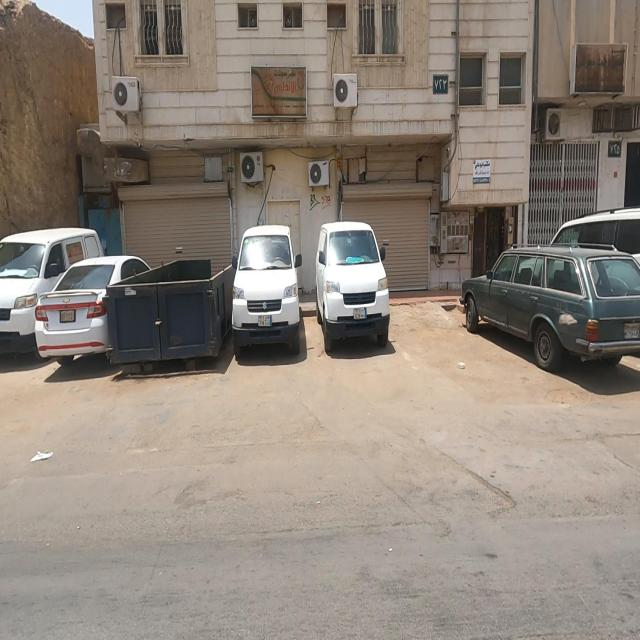Graffiti: (311, 192, 332, 213)
